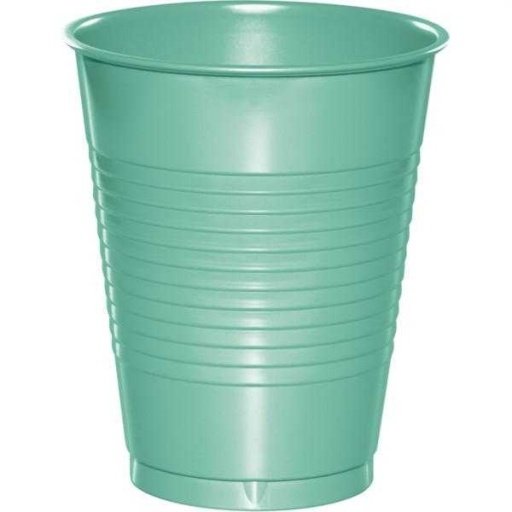cup: (59, 0, 419, 512)
